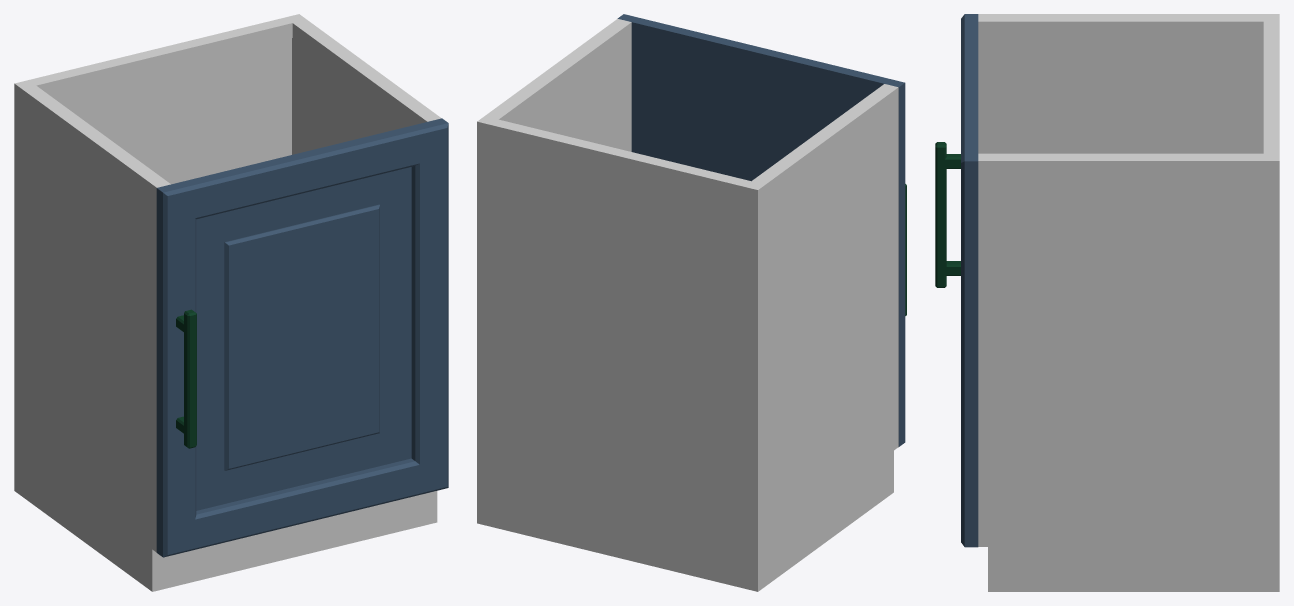
The model's file is Kitchen_Furniture_Counter_NoTop.fbx.
3 views of the same model, side by side, from view 1: azimuth 30°, elevation 25°; view 2: azimuth 150°, elevation 25°; view 3: azimuth 270°, elevation 25° (orthographic). The views are drawn at different scales.
Visible parts, largest first — view 1: Counter_DoorandHandle1, Counter_BodynoTop1; view 2: Counter_BodynoTop1, Counter_DoorandHandle1; view 3: Counter_BodynoTop1, Counter_DoorandHandle1.
Boxes of the visible parts, box(x1,y1,x2,y2) form: Counter_DoorandHandle1: box(156, 118, 448, 557); Counter_BodynoTop1: box(14, 14, 441, 591); Counter_BodynoTop1: box(477, 19, 898, 591); Counter_DoorandHandle1: box(617, 14, 906, 446); Counter_BodynoTop1: box(978, 14, 1279, 591); Counter_DoorandHandle1: box(935, 14, 978, 547).
Bounding box in the file's own units: 60.12 × 82 × 59.45.
